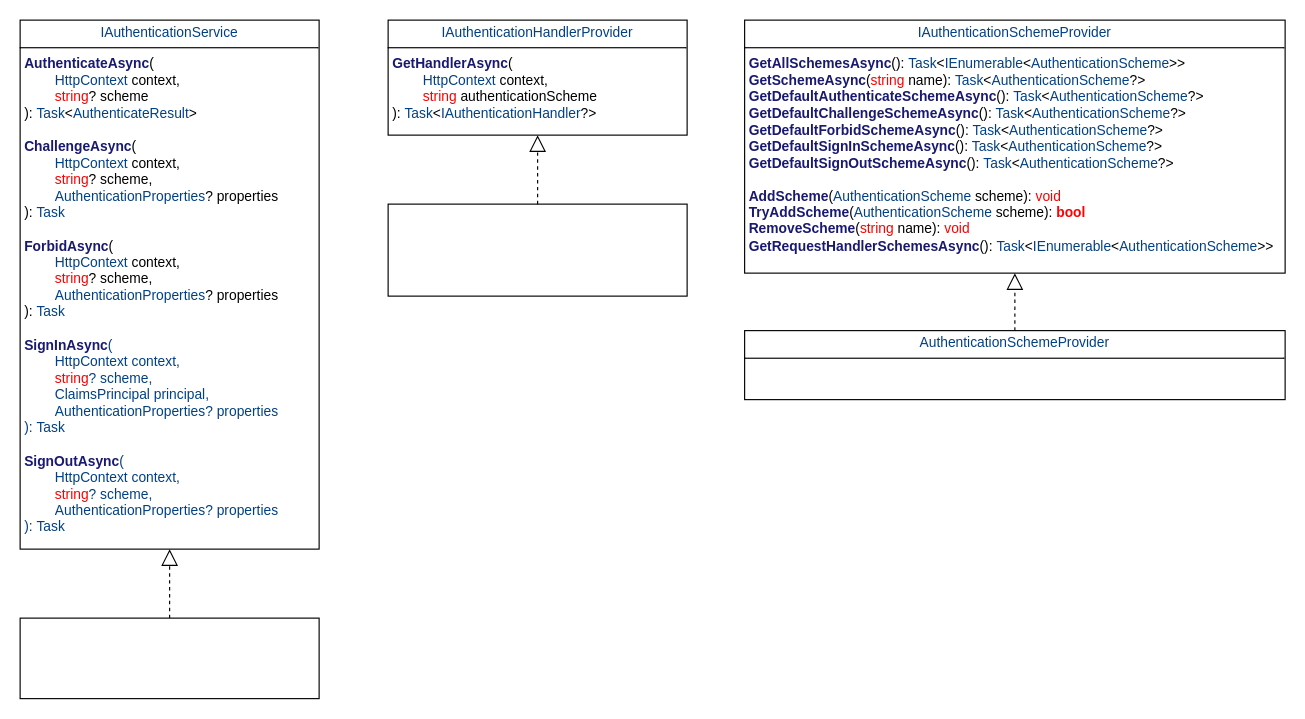
Image size: 1305x719. Some labels were removed from this diagram. Each missing label, with the centre of its shape:
"AuthenticationHandlerProvider" belongs at point 537,249.
"AuthenticationService" belongs at point 169,658.
